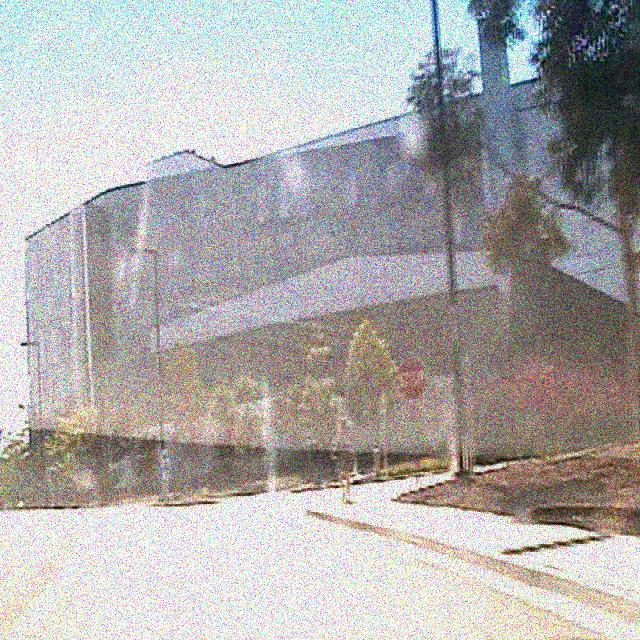stop_sign: (394, 356, 426, 399)
